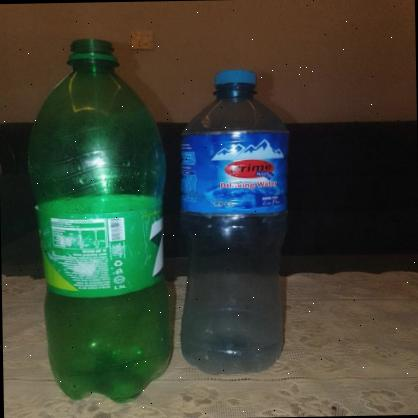bottle: (22, 27, 176, 407), (167, 60, 312, 380)
cap: (208, 66, 262, 92)
label: (31, 204, 169, 306), (180, 124, 296, 222)
